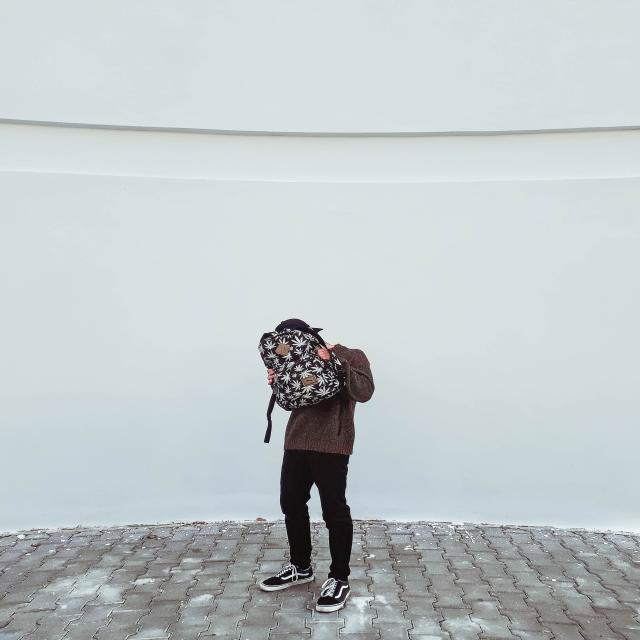backpack: (258, 328, 342, 408)
